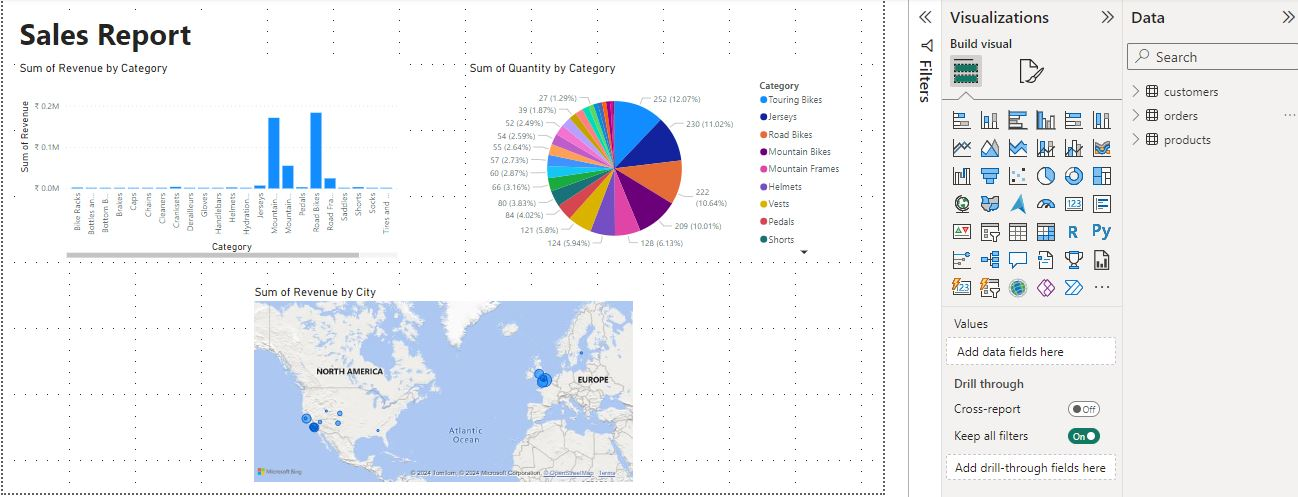

The page's visual inventory and layout, read from the dashboard file:
{"tool":"powerbi","page":{"name":"Page 1","canvas":[1280,720],"ordinal":0},"visuals":[{"type":"textbox","box":[18.5,16.8,271.2,74.1],"z":0},{"type":"columnChart","fields":{"Category":["products.Categorized Product.Category","products.Categorized Product.ProductName"],"Y":["Sum(orders.Revenue)"]},"box":[18.6,91.4,560,291.4],"z":1000},{"type":"pieChart","fields":{"Category":["products.Category"],"Y":["Sum(orders.Quantity)"]},"box":[672.9,91.4,560,291.4],"z":2000},{"type":"map","fields":{"Category":["customers.City"],"Size":["Sum(orders.Revenue)"]},"box":[360,417.1,560,291.4],"z":3000}]}

Visuals, with their boxes on the page's 1280x720 design canvas (x1, y1, x2, y2). These are canvas units, not pixel positions in the 1298x497 screenshot, which may show the page scaled, cropped or inside an application window:
textbox: (left=18, top=17, right=290, bottom=91)
columnChart - products.Categorized Product.Category x products.Categorized Product.ProductName: (left=19, top=91, right=579, bottom=383)
pieChart - products.Category x Sum(orders.Quantity): (left=673, top=91, right=1233, bottom=383)
map - customers.City x Sum(orders.Revenue): (left=360, top=417, right=920, bottom=708)
